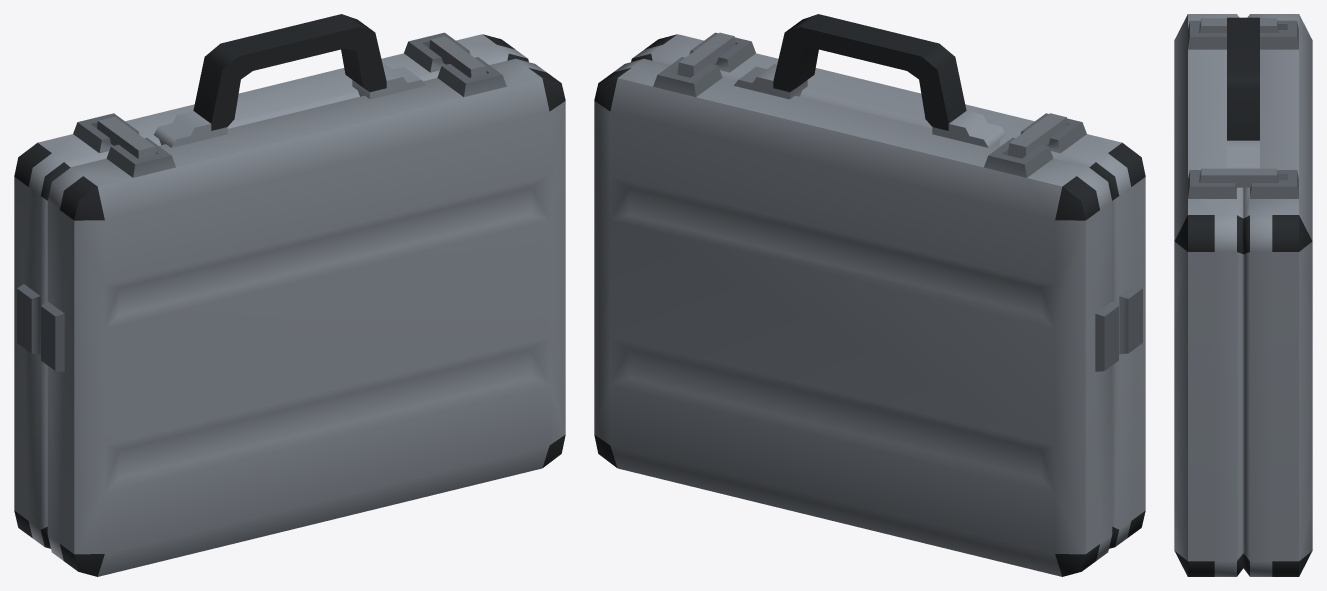
The model's file is SM_Prop_Briefcase_01.obj.
3 renders of one model, left to right at view 1: azimuth 30°, elevation 25°; view 2: azimuth 150°, elevation 25°; view 3: azimuth 270°, elevation 25°, orthographic. The views are drawn at different scales.
Parts seen in each view (by area): view 1: SM_Prop_Briefcase_01_Mat_SwatchOverlay_PolygonOffice_01_Inst; view 2: SM_Prop_Briefcase_01_Mat_SwatchOverlay_PolygonOffice_01_Inst; view 3: SM_Prop_Briefcase_01_Mat_SwatchOverlay_PolygonOffice_01_Inst.
Boxes of the visible parts, box(x1,y1,x2,y2) form: SM_Prop_Briefcase_01_Mat_SwatchOverlay_PolygonOffice_01_Inst: box(14, 14, 565, 576); SM_Prop_Briefcase_01_Mat_SwatchOverlay_PolygonOffice_01_Inst: box(594, 14, 1145, 576); SM_Prop_Briefcase_01_Mat_SwatchOverlay_PolygonOffice_01_Inst: box(1174, 14, 1312, 576).
Size of the model in its own units: 0.5271 by 0.4693 by 0.1362.
1 material, 1 textured.
